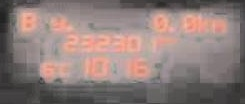-: (63, 22, 76, 32), (166, 22, 175, 35)
0: (89, 55, 108, 76), (125, 32, 141, 52), (180, 12, 195, 33), (151, 12, 166, 32)
1: (123, 55, 131, 80), (148, 35, 156, 51), (83, 55, 89, 76)
2: (94, 33, 108, 52), (61, 33, 76, 50)
3: (109, 33, 123, 52), (78, 33, 93, 50)
6: (131, 57, 148, 77), (40, 59, 51, 78)
X: (18, 10, 34, 30), (194, 12, 208, 33), (48, 14, 64, 29), (208, 17, 223, 33), (58, 60, 68, 76)
